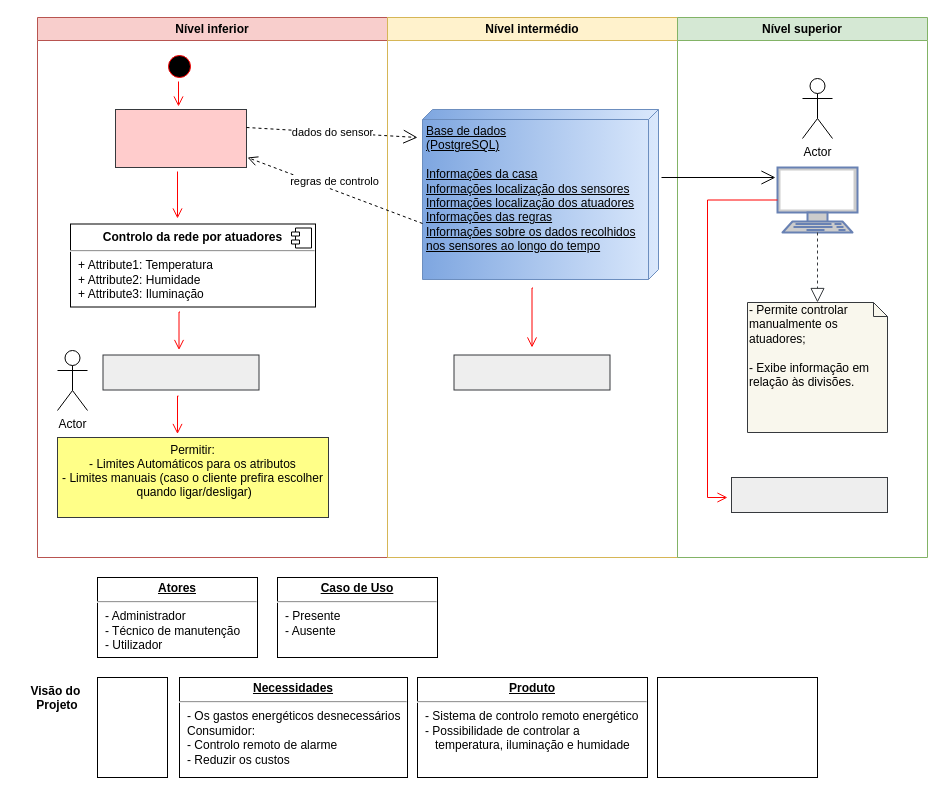
The diagram is 945 pixels wide and 795 high, and some of its shapes have lost their labels. Here are the shapes that lost their labels. From the top down, the centre of each, then its label:
At (180,138): "Raspberry Pi 3 recolhe os dados obtidos pelos sensores".
At (180,372): "Implementação do código em C".
At (531,372): "Implementação do código em SQL".
At (809,494): "Implementação da interface em html e C".
At (132,727): "Grupo-alvo - Famílias".
At (737,727): "Objetivos - Lucro - Reputação da empresa - KNOW-HOW".
